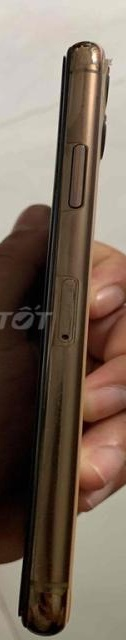scratch: (81, 40, 121, 79), (31, 584, 78, 610)
